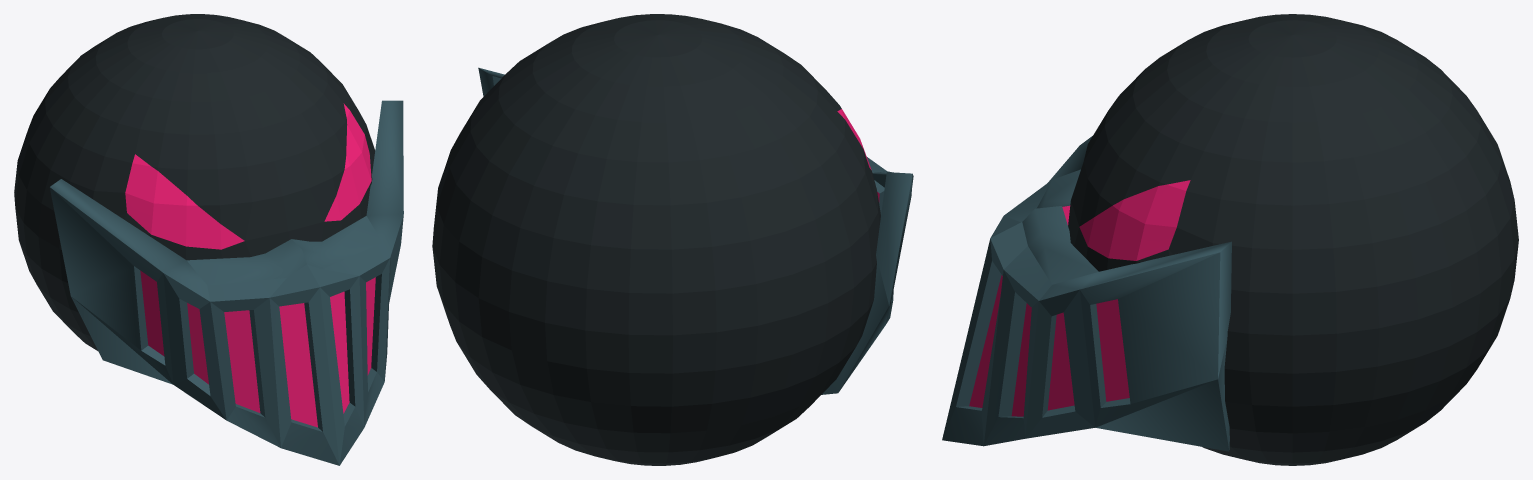
The model's file is Enemy_Bullet.fbx.
3 views of the same model, side by side, from view 1: azimuth 30°, elevation 25°; view 2: azimuth 150°, elevation 25°; view 3: azimuth 270°, elevation 25° (orthographic). The views are drawn at different scales.
Parts seen in each view (by area): view 1: Bullet; view 2: Bullet; view 3: Bullet.
Boxes of the visible parts, left/top/right/bottom form: Bullet: left=14, top=14, right=403, bottom=465; Bullet: left=432, top=14, right=913, bottom=465; Bullet: left=942, top=14, right=1518, bottom=465.
Size of the model in its own units: 22.28 by 20.1 by 25.63.
